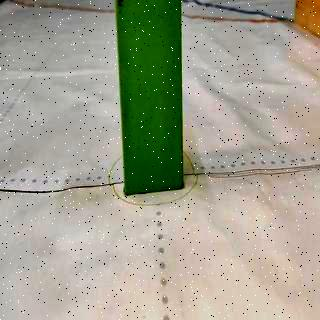greenbox: (111, 2, 190, 198)
